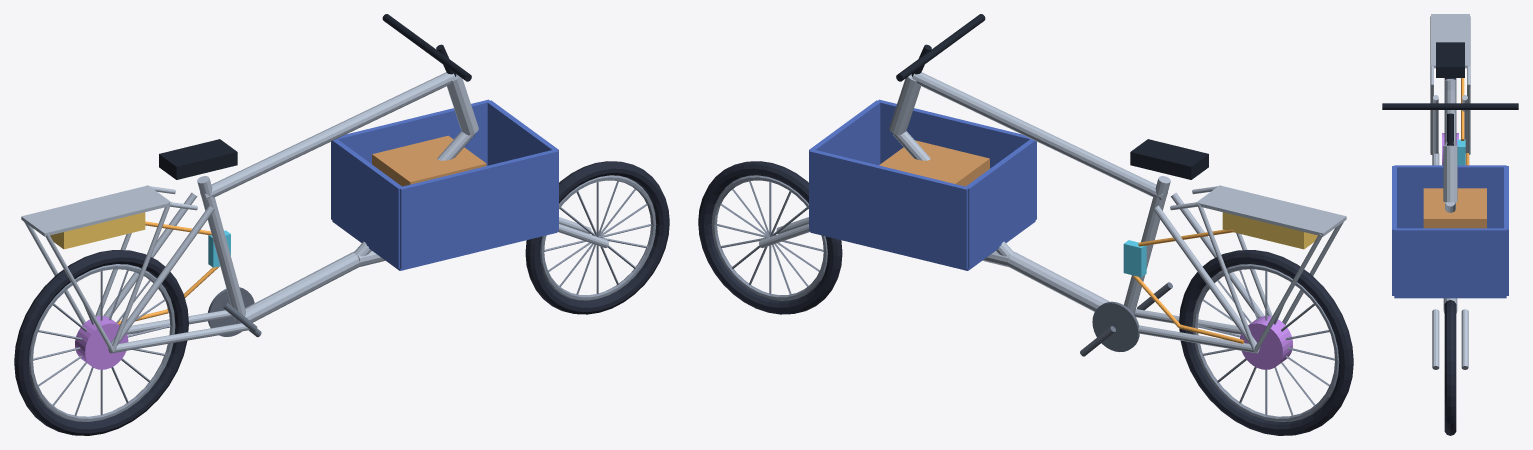
Rendered from velo_cargo.glb.
The picture shows the model from 3 angles, left to right: view 1: azimuth 30°, elevation 25°; view 2: azimuth 150°, elevation 25°; view 3: azimuth 270°, elevation 25°; orthographic projection. The views are drawn at different scales.
Visible parts, largest first — view 1: bac, cadre, roue_arriere, roue_avant, porte_bagages, colis, selle, moteur, batterie, pedalier, guidon, cable; view 2: bac, cadre, roue_arriere, roue_avant, porte_bagages, colis, pedalier, selle, moteur, batterie, guidon, cable (+1 smaller); view 3: bac, cadre, colis, porte_bagages, roue_avant, guidon, selle, cable, controleur.
Part boxes in pixels (box(x1,y1,x2,y2)): bac: box(331, 99, 558, 270); cadre: box(103, 72, 608, 353); roue_arriere: box(14, 250, 188, 435); roue_avant: box(525, 161, 669, 314); porte_bagages: box(21, 185, 197, 352); colis: box(372, 135, 486, 186); selle: box(159, 139, 237, 179); moteur: box(75, 316, 128, 369); batterie: box(50, 212, 145, 249); pedalier: box(208, 287, 261, 337); guidon: box(382, 14, 471, 81); cable: box(115, 221, 219, 324); bac: box(809, 99, 1036, 270); cadre: box(759, 72, 1264, 353); roue_arriere: box(1179, 250, 1353, 435); roue_avant: box(698, 161, 842, 314); porte_bagages: box(1170, 185, 1346, 352); colis: box(879, 140, 989, 186); pedalier: box(1080, 282, 1172, 356); selle: box(1130, 139, 1208, 179); moteur: box(1240, 316, 1292, 369); batterie: box(1222, 212, 1317, 249); guidon: box(896, 14, 985, 81); cable: box(1133, 229, 1244, 343); bac: box(1392, 165, 1508, 298); cadre: box(1432, 79, 1468, 369); colis: box(1423, 188, 1486, 228); porte_bagages: box(1430, 14, 1470, 154); roue_avant: box(1444, 300, 1456, 435); guidon: box(1382, 103, 1518, 145); selle: box(1436, 42, 1464, 77); cable: box(1461, 78, 1469, 165); controleur: box(1457, 139, 1465, 165).
Bounding box in the file's own units: 2.57 × 1.16 × 0.56.
